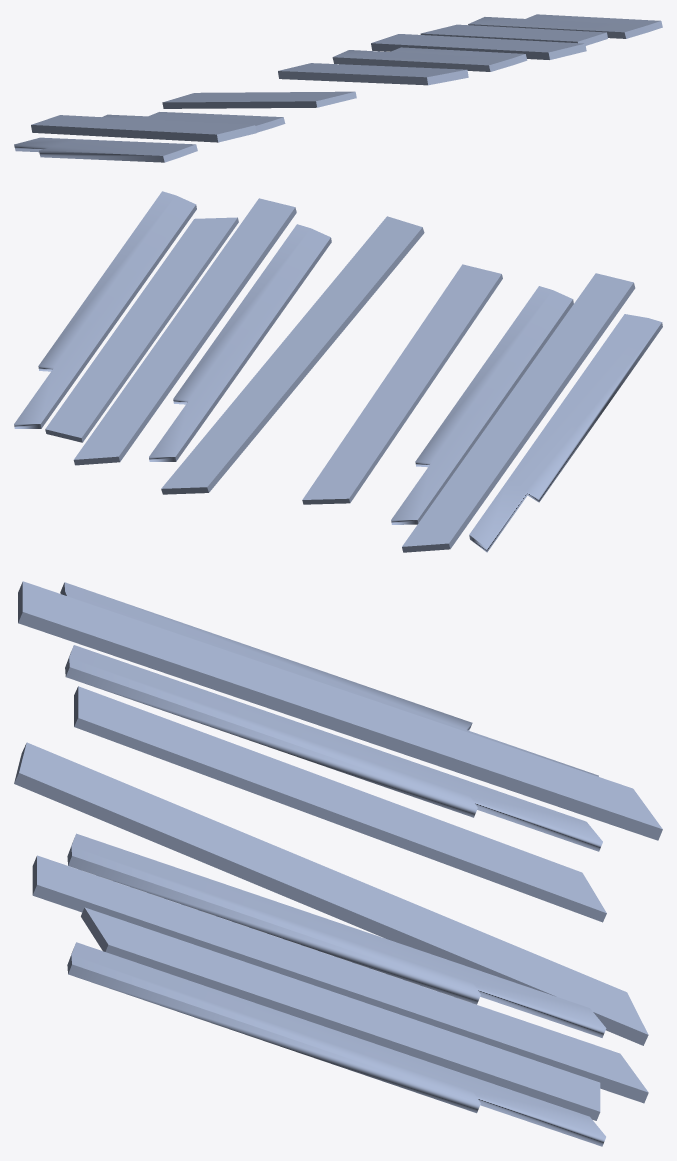
Rendered from Beam_Structure_10B_Lod0.fbx.
The picture shows the model from 3 angles, top to bottom: view 1: azimuth 30°, elevation 25°; view 2: azimuth 150°, elevation 25°; view 3: azimuth 270°, elevation 25°; orthographic projection. The views are drawn at different scales.
Visible parts, largest first — view 1: Beam_Structure_10B_Lod0; view 2: Beam_Structure_10B_Lod0; view 3: Beam_Structure_10B_Lod0.
Boxes of the visible parts, x1=… form: Beam_Structure_10B_Lod0: x1=14, y1=14, x2=662, y2=162; Beam_Structure_10B_Lod0: x1=14, y1=191, x2=662, y2=552; Beam_Structure_10B_Lod0: x1=14, y1=581, x2=662, y2=1146.
Size of the model in its own units: 258 by 73.56 by 177.
